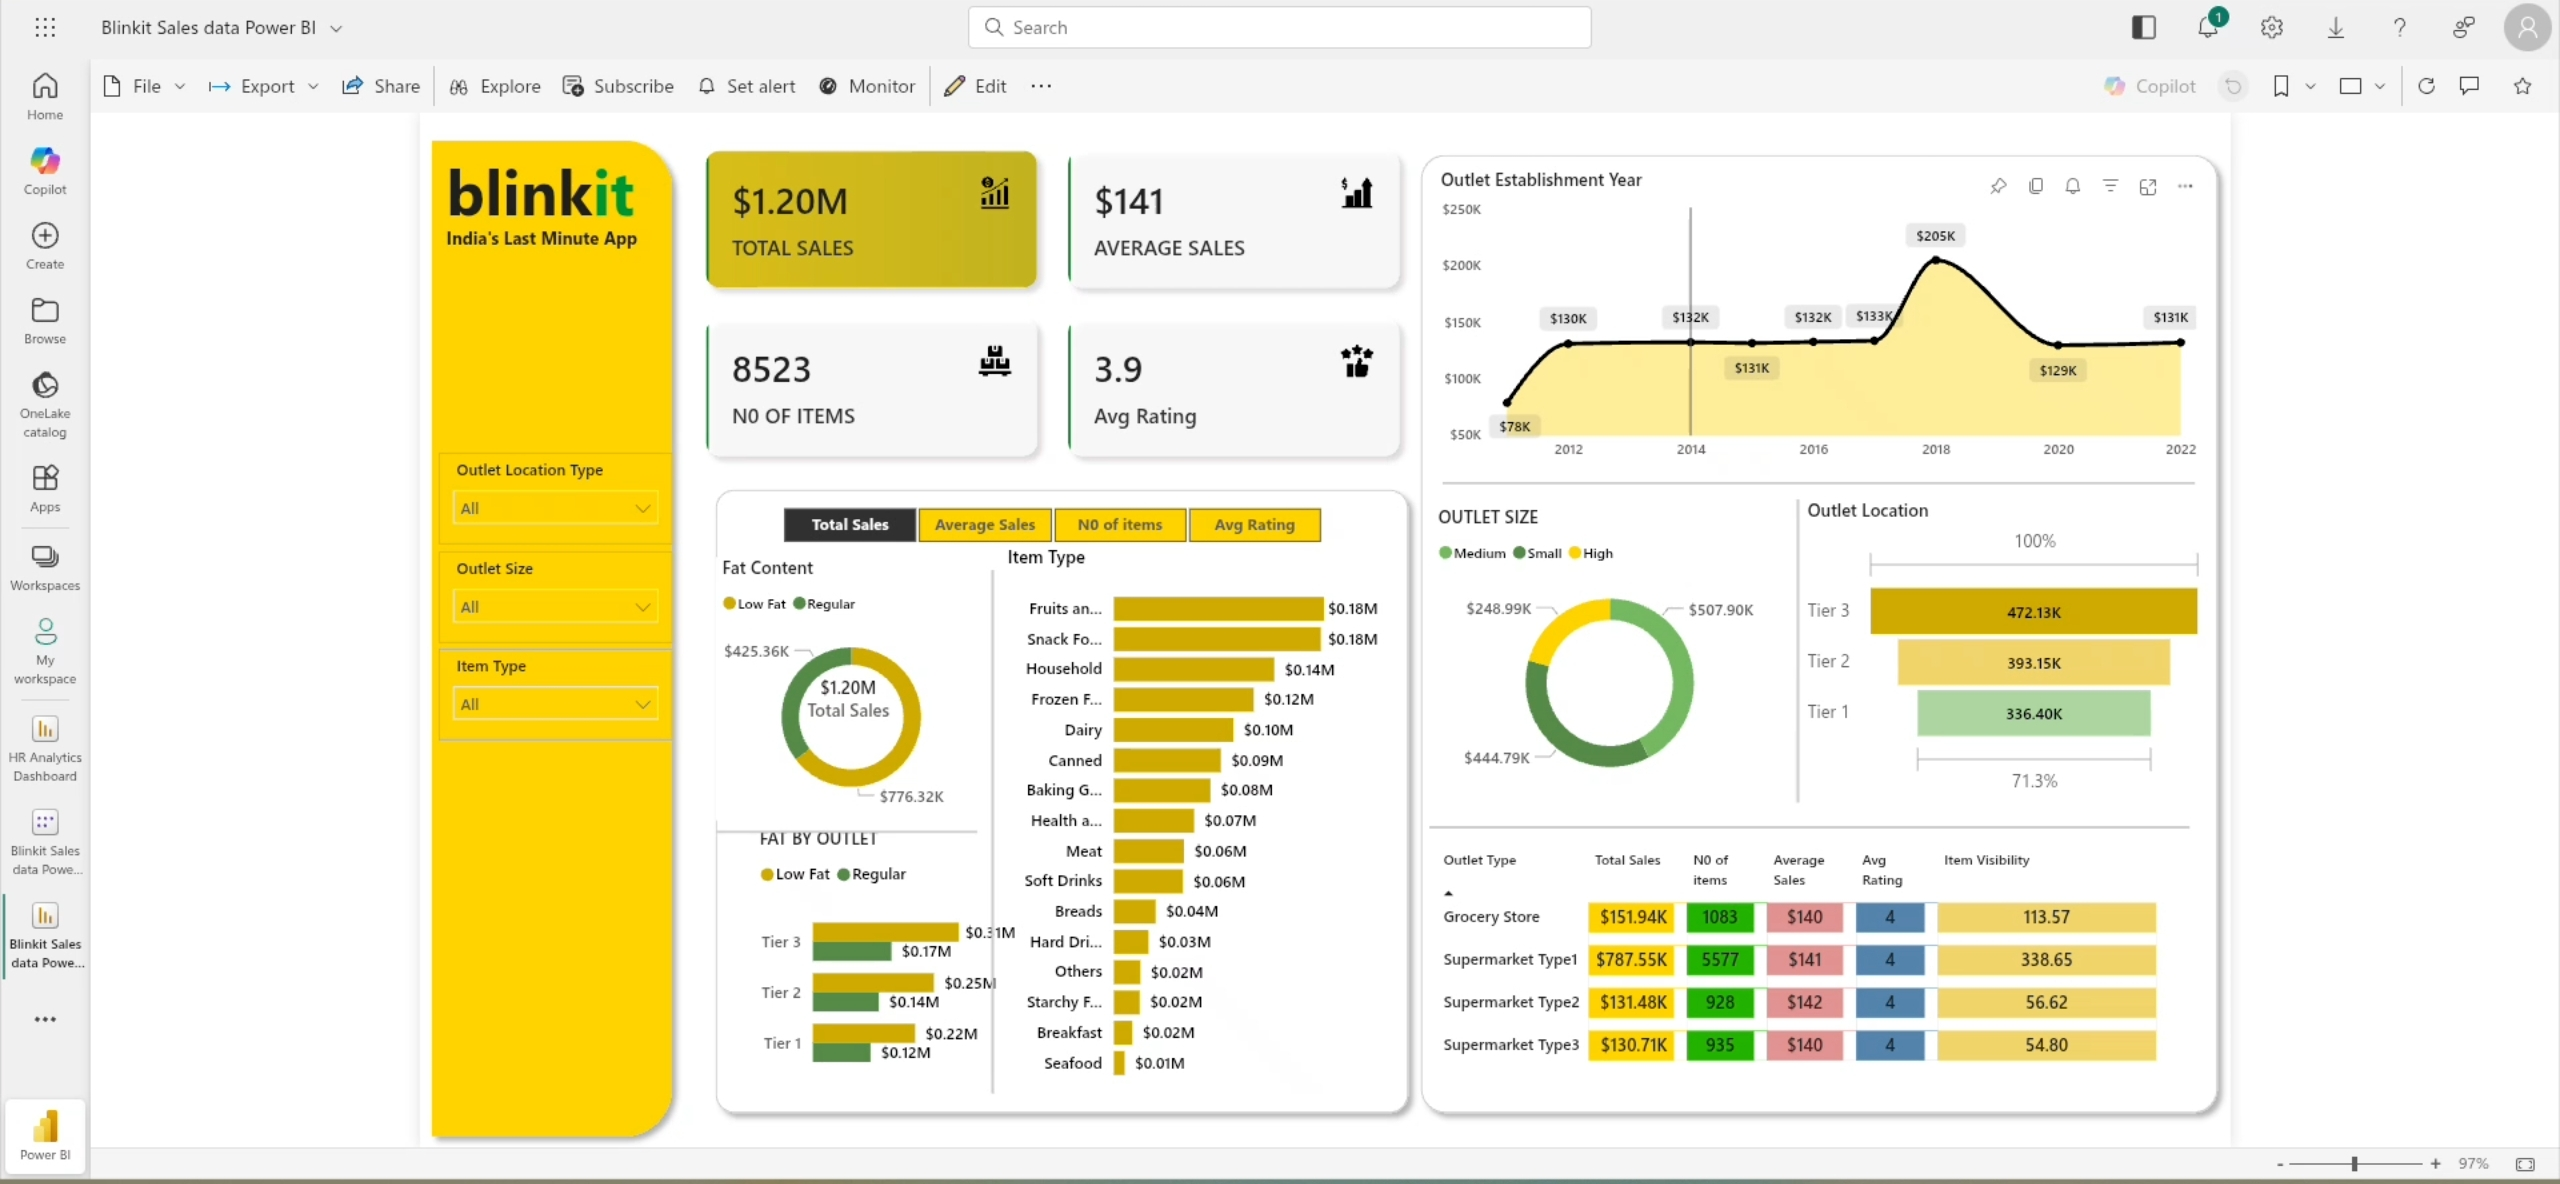

This screenshot's page, from the dashboard's own definition file:
{"tool":"powerbi","page":{"name":"Page 1","canvas":[1400,800],"ordinal":0},"visuals":[{"type":"shape","box":[0,12.1,203.8,788.2],"z":0},{"type":"textbox","box":[15,24,172.6,76.5],"z":1000},{"type":"textbox","box":[15,84,172.6,33],"z":2000},{"type":"cardVisual","fields":{"Data":["BlinkIT Grocery Data.Total Sales","BlinkIT Grocery Data.Average Sales","BlinkIT Grocery Data.N0 of items","BlinkIT Grocery Data.Avg Rating"]},"box":[204.1,12,570.3,270.2],"z":3000},{"type":"shape","box":[219.8,282.8,553.6,500],"z":4000},{"type":"donutChart","title":" Fat Content","fields":{"Y":["BlinkIT Grocery Data.Total Sales"],"Category":["BlinkIT Grocery Data.Item Fat Content"]},"box":[229.2,343.2,209.1,203.8],"z":5000},{"type":"slicer","fields":{"Values":["Parameter.Parameter"]},"box":[256,298.9,465.1,40.2],"z":6000},{"type":"cardVisual","fields":{"Data":["BlinkIT Grocery Data.Total Sales"]},"box":[270.8,419.6,120.6,57.6],"z":7000},{"type":"clusteredBarChart","title":"FAT BY OUTLET","fields":{"Y":["BlinkIT Grocery Data.Total Sales"],"Category":["BlinkIT Grocery Data.Outlet Location Type"],"Series":["BlinkIT Grocery Data.Item Fat Content"]},"box":[257.4,552.3,207.8,203.8],"z":8000},{"type":"shape","box":[229.2,542.9,202.4,25.5],"z":9000},{"type":"shape","box":[420.9,353.9,44.2,404.8],"z":10000},{"type":"barChart","title":" Item Type","fields":{"Y":["BlinkIT Grocery Data.Total Sales"],"Category":["BlinkIT Grocery Data.Item Type"]},"box":[449.1,335.1,296.2,423.6],"z":11000},{"type":"shape","box":[765.4,24.1,634,758.7],"z":12000},{"type":"lineChart","title":"Outlet Establishment Year","fields":{"Category":["BlinkIT Grocery Data.Outlet Establishment Year"],"Y":["BlinkIT Grocery Data.Total Sales"]},"box":[784.2,42.9,593.8,234.6],"z":13000},{"type":"shape","box":[790.9,269.4,581.8,34.9],"z":14000},{"type":"donutChart","title":"OUTLET SIZE","fields":{"Y":["BlinkIT Grocery Data.Total Sales"],"Category":["BlinkIT Grocery Data.Outlet Size"]},"box":[782.9,304.3,274.8,229.2],"z":15000},{"type":"shape","box":[1042.9,298.9,44.2,234.6],"z":16000},{"type":"funnel","title":"Outlet Location ","fields":{"Y":["Sum(BlinkIT Grocery Data.Sales)"],"Category":["BlinkIT Grocery Data.Outlet Location Type"]},"box":[1068.4,298.9,316.4,234.6],"z":17000},{"type":"pivotTable","fields":{"Rows":["BlinkIT Grocery Data.Outlet Type"],"Values":["BlinkIT Grocery Data.Total Sales","BlinkIT Grocery Data.N0 of items","BlinkIT Grocery Data.Average Sales","BlinkIT Grocery Data.Avg Rating","Sum(BlinkIT Grocery Data.Item Visibility)"]},"box":[781.5,561.7,603.2,201.1],"z":18000},{"type":"shape","box":[780.2,541.6,588.5,22.8],"z":19000},{"type":"slicer","fields":{"Values":["BlinkIT Grocery Data.Outlet Location Type"]},"box":[14.8,262.7,181,71],"z":20000},{"type":"slicer","fields":{"Values":["BlinkIT Grocery Data.Outlet Size"]},"box":[14.8,339.1,181,71],"z":21000},{"type":"slicer","fields":{"Values":["BlinkIT Grocery Data.Item Type"]},"box":[14.8,414.2,181,71],"z":22000}]}

Visuals, with their boxes on the page's 1400x800 design canvas (x1, y1, x2, y2). These are canvas units, not pixel positions in the 2560x1184 screenshot, which may show the page scaled, cropped or inside an application window:
shape: {"left": 0, "top": 12, "right": 204, "bottom": 800}
textbox: {"left": 15, "top": 24, "right": 188, "bottom": 100}
textbox: {"left": 15, "top": 84, "right": 188, "bottom": 117}
cardVisual - BlinkIT Grocery Data.Total Sales x BlinkIT Grocery Data.Average Sales: {"left": 204, "top": 12, "right": 774, "bottom": 282}
shape: {"left": 220, "top": 283, "right": 773, "bottom": 783}
" Fat Content" donutChart: {"left": 229, "top": 343, "right": 438, "bottom": 547}
slicer - Parameter.Parameter: {"left": 256, "top": 299, "right": 721, "bottom": 339}
cardVisual - BlinkIT Grocery Data.Total Sales: {"left": 271, "top": 420, "right": 391, "bottom": 477}
"FAT BY OUTLET" clusteredBarChart: {"left": 257, "top": 552, "right": 465, "bottom": 756}
shape: {"left": 229, "top": 543, "right": 432, "bottom": 568}
shape: {"left": 421, "top": 354, "right": 465, "bottom": 759}
" Item Type" barChart: {"left": 449, "top": 335, "right": 745, "bottom": 759}
shape: {"left": 765, "top": 24, "right": 1399, "bottom": 783}
"Outlet Establishment Year" lineChart: {"left": 784, "top": 43, "right": 1378, "bottom": 278}
shape: {"left": 791, "top": 269, "right": 1373, "bottom": 304}
"OUTLET SIZE" donutChart: {"left": 783, "top": 304, "right": 1058, "bottom": 534}
shape: {"left": 1043, "top": 299, "right": 1087, "bottom": 534}
"Outlet Location " funnel: {"left": 1068, "top": 299, "right": 1385, "bottom": 534}
pivotTable - BlinkIT Grocery Data.Outlet Type x BlinkIT Grocery Data.Total Sales: {"left": 782, "top": 562, "right": 1385, "bottom": 763}
shape: {"left": 780, "top": 542, "right": 1369, "bottom": 564}
slicer - BlinkIT Grocery Data.Outlet Location Type: {"left": 15, "top": 263, "right": 196, "bottom": 334}
slicer - BlinkIT Grocery Data.Outlet Size: {"left": 15, "top": 339, "right": 196, "bottom": 410}
slicer - BlinkIT Grocery Data.Item Type: {"left": 15, "top": 414, "right": 196, "bottom": 485}
